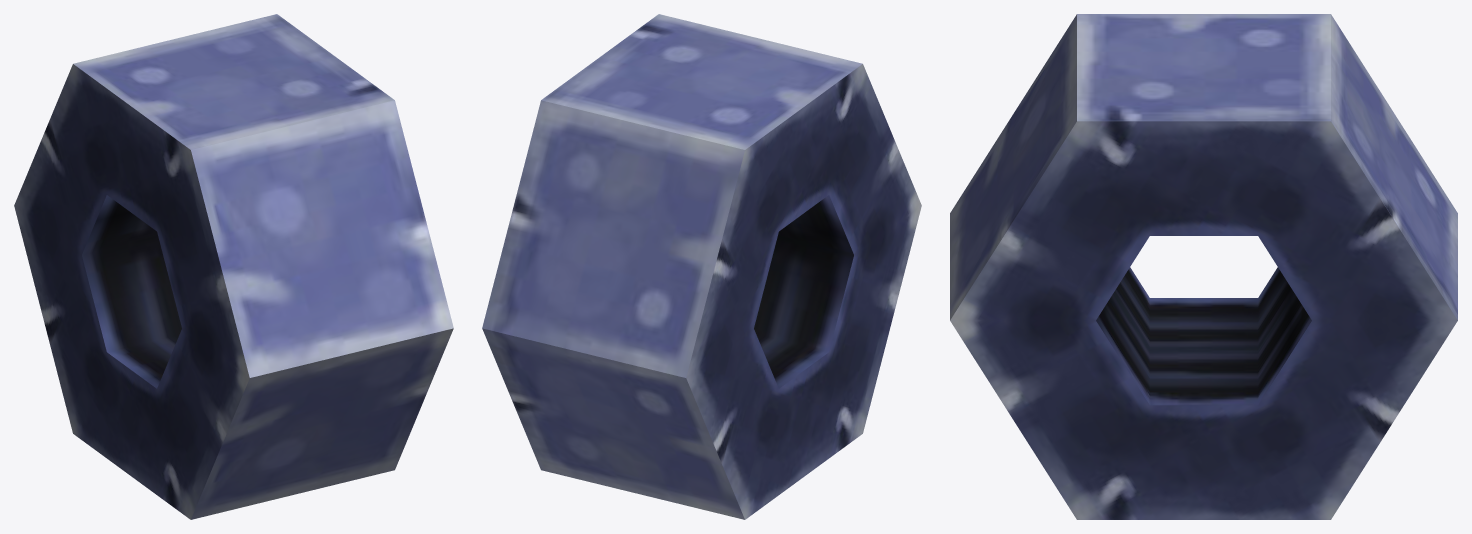
Rendered from pickups.fbx.
The picture shows the model from 3 angles, left to right: view 1: azimuth 30°, elevation 25°; view 2: azimuth 150°, elevation 25°; view 3: azimuth 270°, elevation 25°; orthographic projection. The views are drawn at different scales.
Visible parts, largest first — view 1: pickup; view 2: pickup; view 3: pickup.
Part boxes in pixels (x1=…): pickup: x1=14, y1=14, x2=453, y2=519; pickup: x1=482, y1=14, x2=921, y2=519; pickup: x1=950, y1=14, x2=1457, y2=519.
Size of the model in its own units: 100 by 173 by 200.
